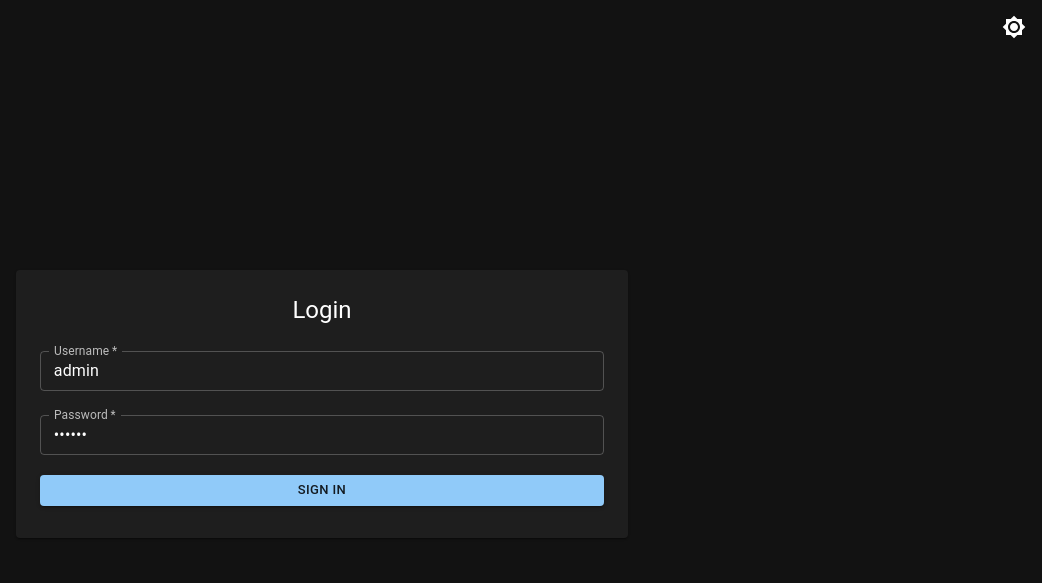
it: LoginPage › shows error on status not ok and no json
Click the button "Sign In": (322, 490) left=40, top=475, right=604, bottom=506
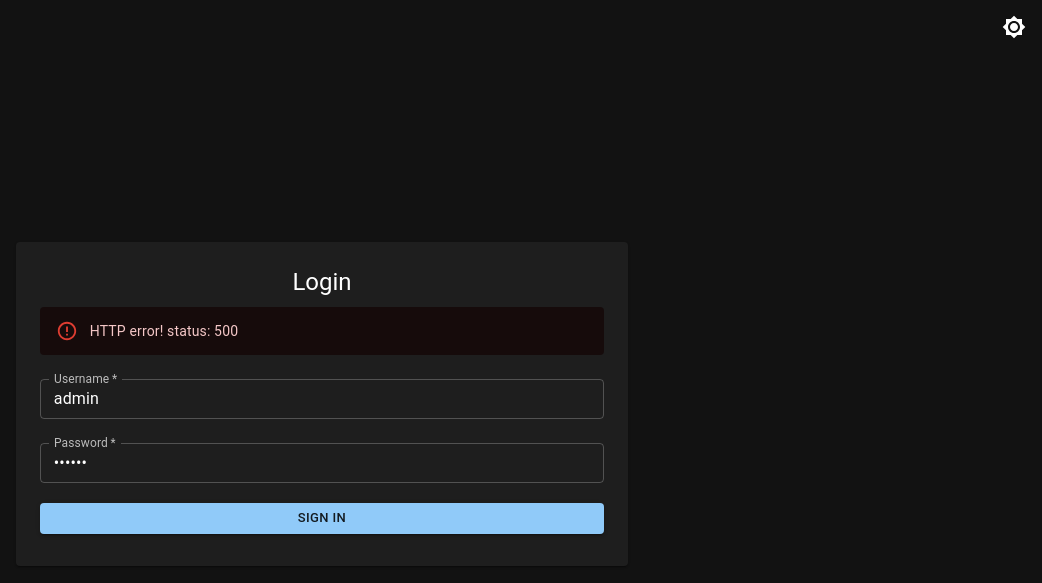
Expected: the text "HTTP error! status: 500" is shown, left=90, top=323, right=238, bottom=339
